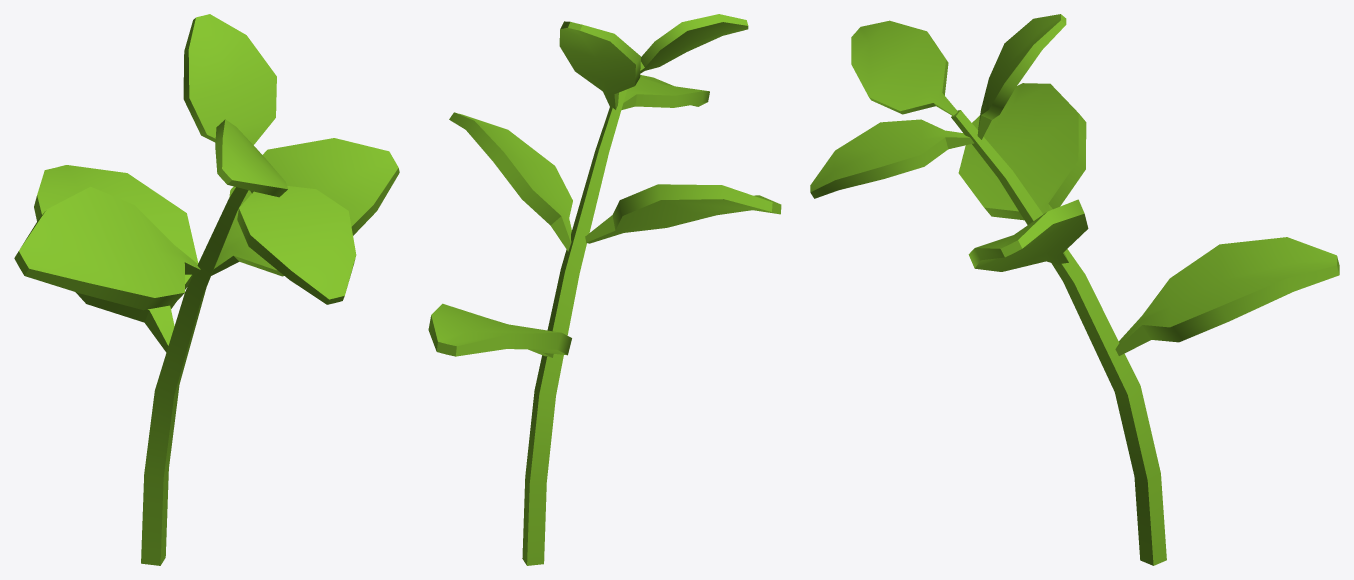
The model's file is garnish-mint-short.fbx.
The picture shows the model from 3 angles, left to right: view 1: azimuth 30°, elevation 25°; view 2: azimuth 150°, elevation 25°; view 3: azimuth 270°, elevation 25°; orthographic projection. The views are drawn at different scales.
Parts seen in each view (by area): view 1: garnish_mint_short; view 2: garnish_mint_short; view 3: garnish_mint_short.
Part boxes in pixels (left/top/right/bottom): garnish_mint_short: left=14, top=14, right=399, bottom=565; garnish_mint_short: left=428, top=14, right=781, bottom=565; garnish_mint_short: left=810, top=14, right=1339, bottom=565.
Bounding box in the file's own units: 0.0231 × 0.0344 × 0.0304.
